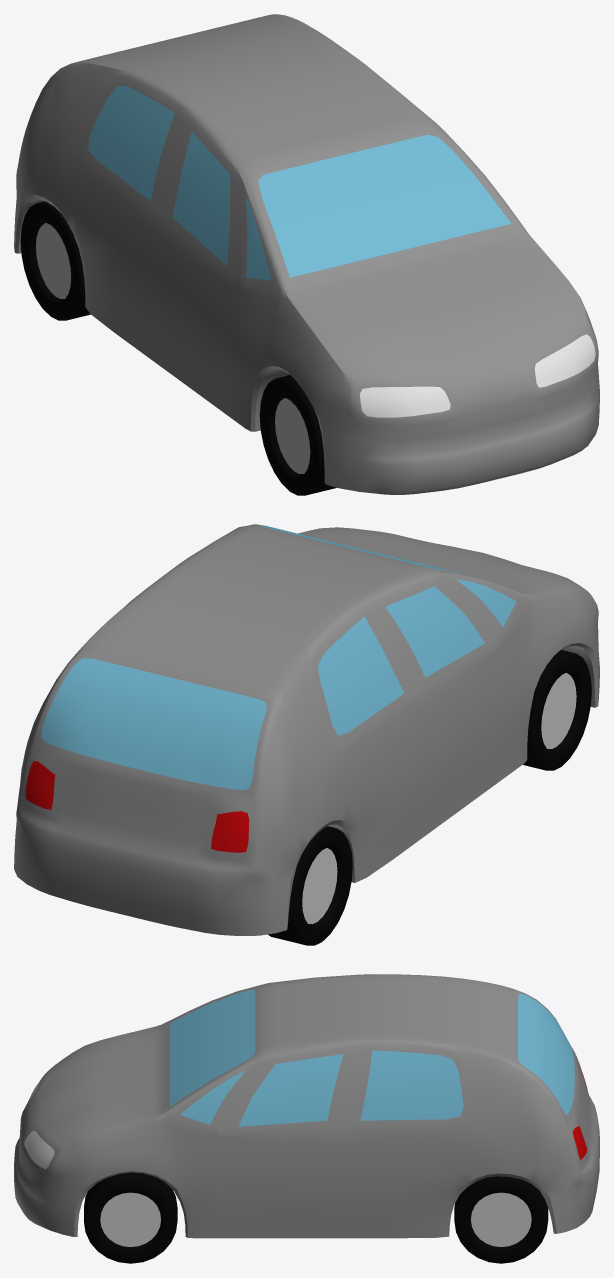
The model's file is car.fbx.
3 renders of one model, top to bottom at view 1: azimuth 30°, elevation 25°; view 2: azimuth 150°, elevation 25°; view 3: azimuth 270°, elevation 25°, orthographic. The views are drawn at different scales.
Parts seen in each view (by area): view 1: carrosserie, roueAVD, roueAR; view 2: carrosserie, roueAVD, roueAR; view 3: carrosserie, roueAVG, roueAR.
Boxes of the visible parts, box(x1,y1,x2,y2) form: carrosserie: box(14, 14, 599, 494); roueAVD: box(259, 375, 336, 495); roueAR: box(20, 201, 90, 320); carrosserie: box(14, 524, 599, 935); roueAVD: box(523, 650, 591, 770); roueAR: box(268, 826, 352, 945); carrosserie: box(14, 974, 599, 1238); roueAVG: box(84, 1172, 177, 1263); roueAR: box(454, 1176, 548, 1263).
Bounding box in the file's own units: 170 × 155 × 400.
